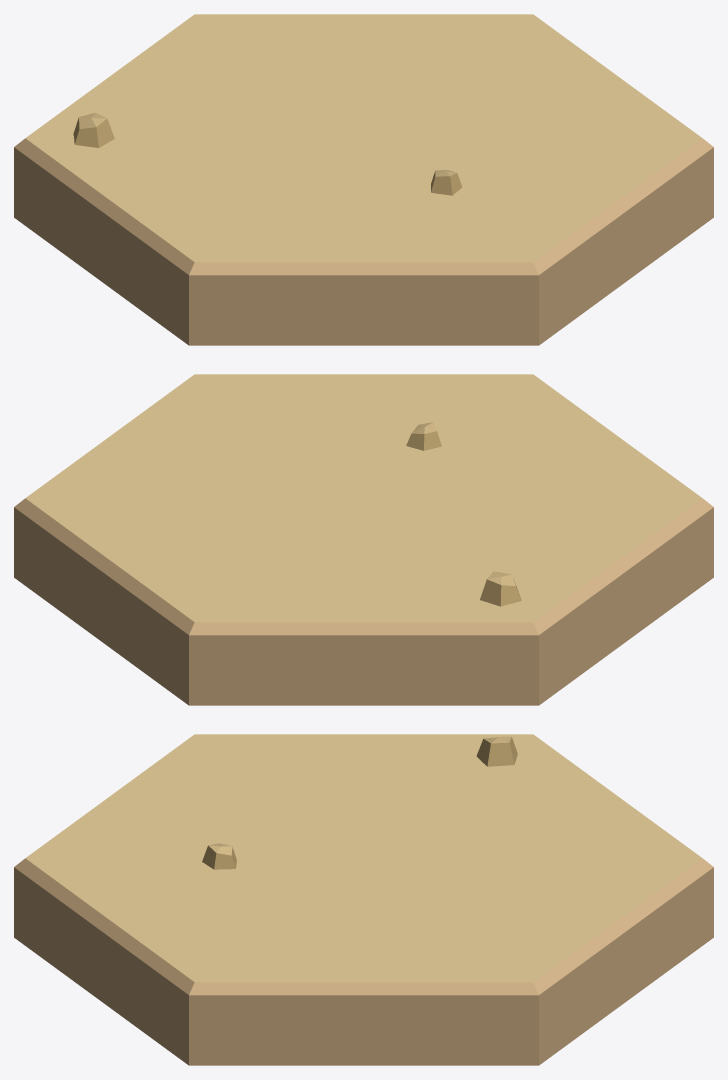
Rendered from tile_sand_2.fbx.
3 views of the same model, one above another, from view 1: azimuth 30°, elevation 25°; view 2: azimuth 150°, elevation 25°; view 3: azimuth 270°, elevation 25° (orthographic).
Parts seen in each view (by area): view 1: tile_sand_2; view 2: tile_sand_2; view 3: tile_sand_2.
Part boxes in pixels (<box>): tile_sand_2: <box>14,14,713,345</box>; tile_sand_2: <box>14,374,713,705</box>; tile_sand_2: <box>14,734,713,1065</box>.
Bounding box in the file's own units: 1.73 × 0.3162 × 2.
